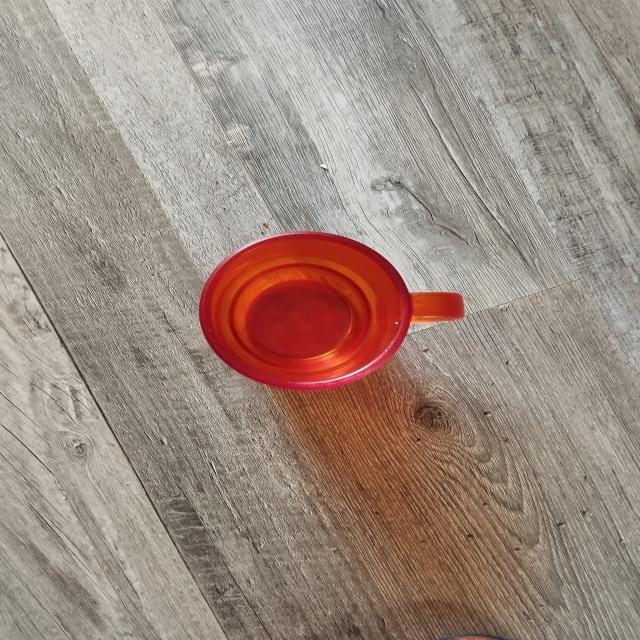Cup: (168, 204, 500, 406)
